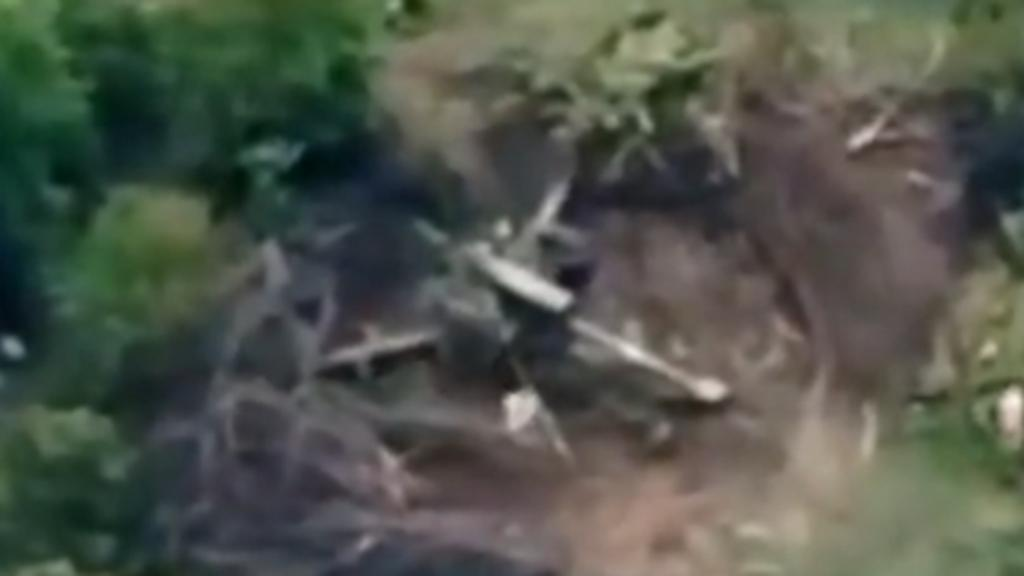ART: (304, 170, 734, 482)
